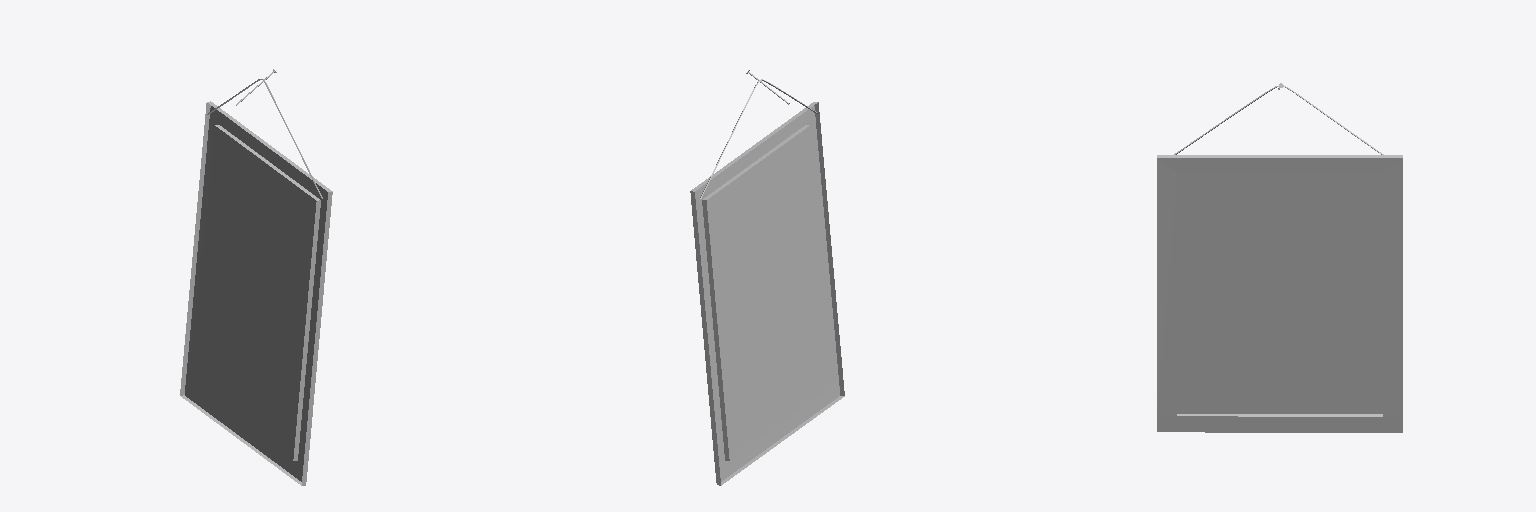
Rendered from obraz nad lozkiem2.obj.
3 renders of one model, left to right at view 1: azimuth 30°, elevation 25°; view 2: azimuth 150°, elevation 25°; view 3: azimuth 270°, elevation 25°, orthographic.
Parts seen in each view (by area): view 1: Plane.003; view 2: Plane.003; view 3: Plane.003.
Boxes of the visible parts, <box> form: Plane.003: <box>180,101,332,485</box>; Plane.003: <box>690,102,844,485</box>; Plane.003: <box>1157,155,1402,432</box>.
Bounding box in the file's own units: 0.0877 × 0.7342 × 0.4496.